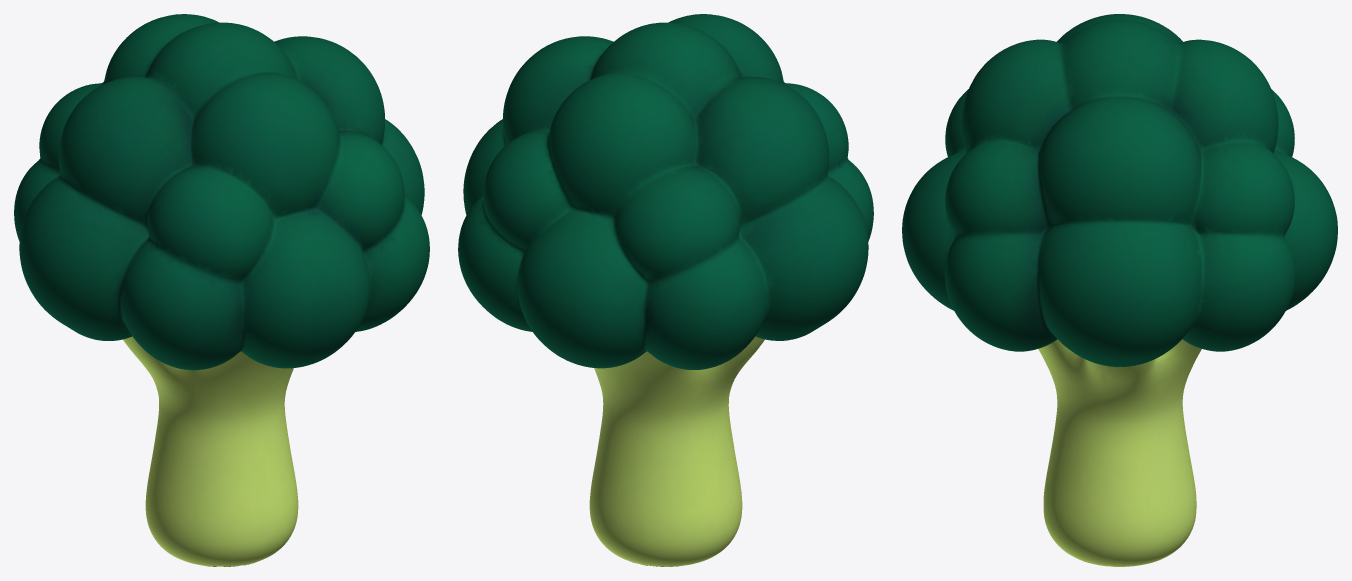
File: broccoli.glb
3 views of the same model, side by side, from view 1: azimuth 30°, elevation 25°; view 2: azimuth 150°, elevation 25°; view 3: azimuth 270°, elevation 25° (orthographic).
Parts seen in each view (by area): view 1: model; view 2: model; view 3: model.
Boxes of the visible parts, x1,y1,x2,y2 form: model: [14, 14, 429, 566]; model: [458, 14, 873, 566]; model: [902, 14, 1337, 566].
Bounding box in the file's own units: 1.48 × 1.9 × 1.45.
1 material, 1 textured.
